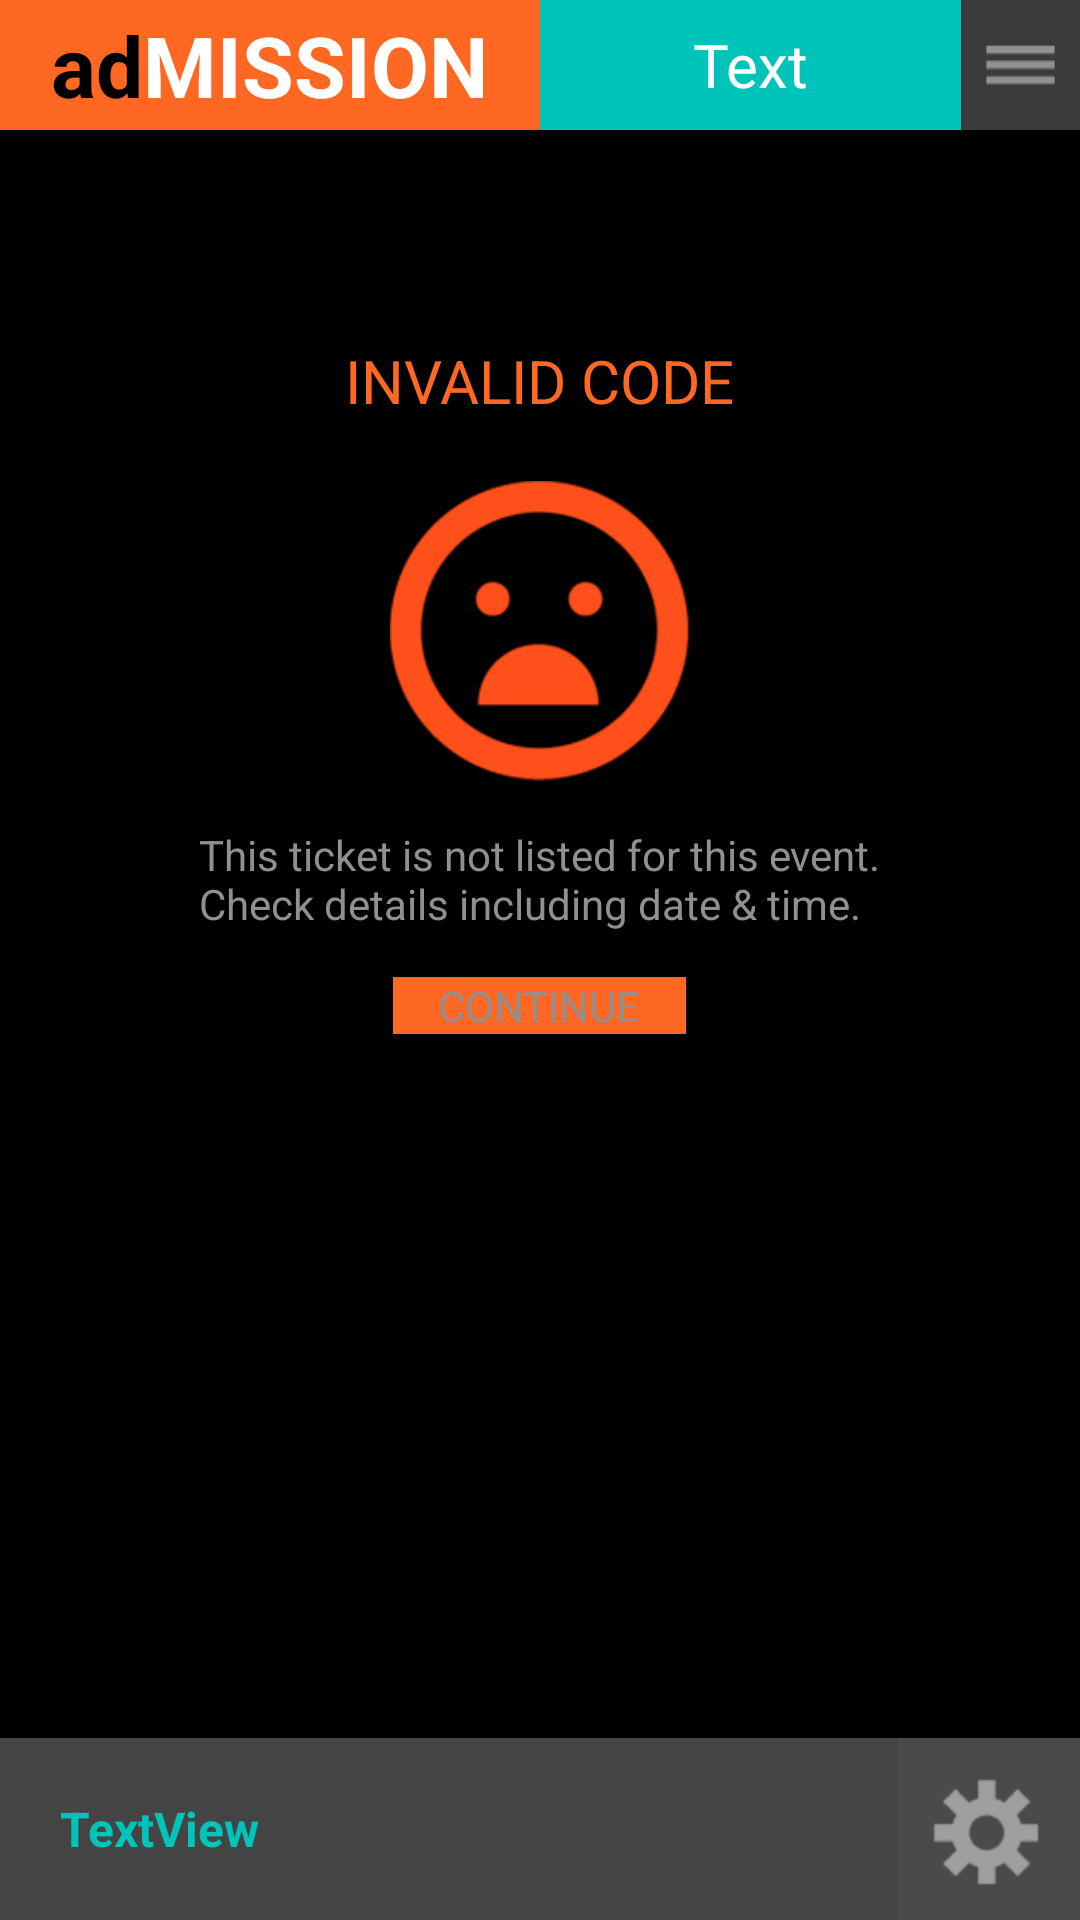

Point at icon controls on the screen. Image size 1080 x 1920, points as (x,y).
menu: (1020,65)
